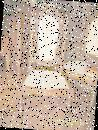Silla: (15, 6, 80, 129)
